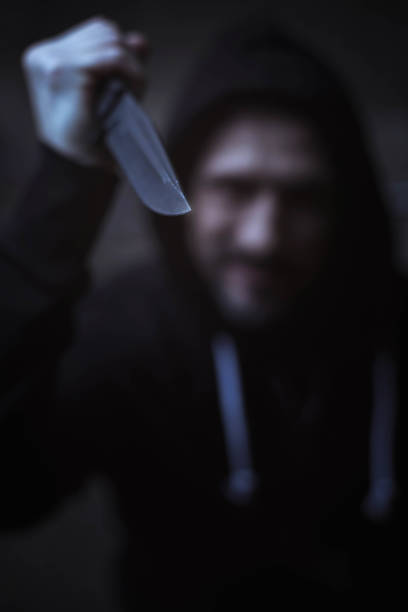knife: (96, 89, 195, 219)
